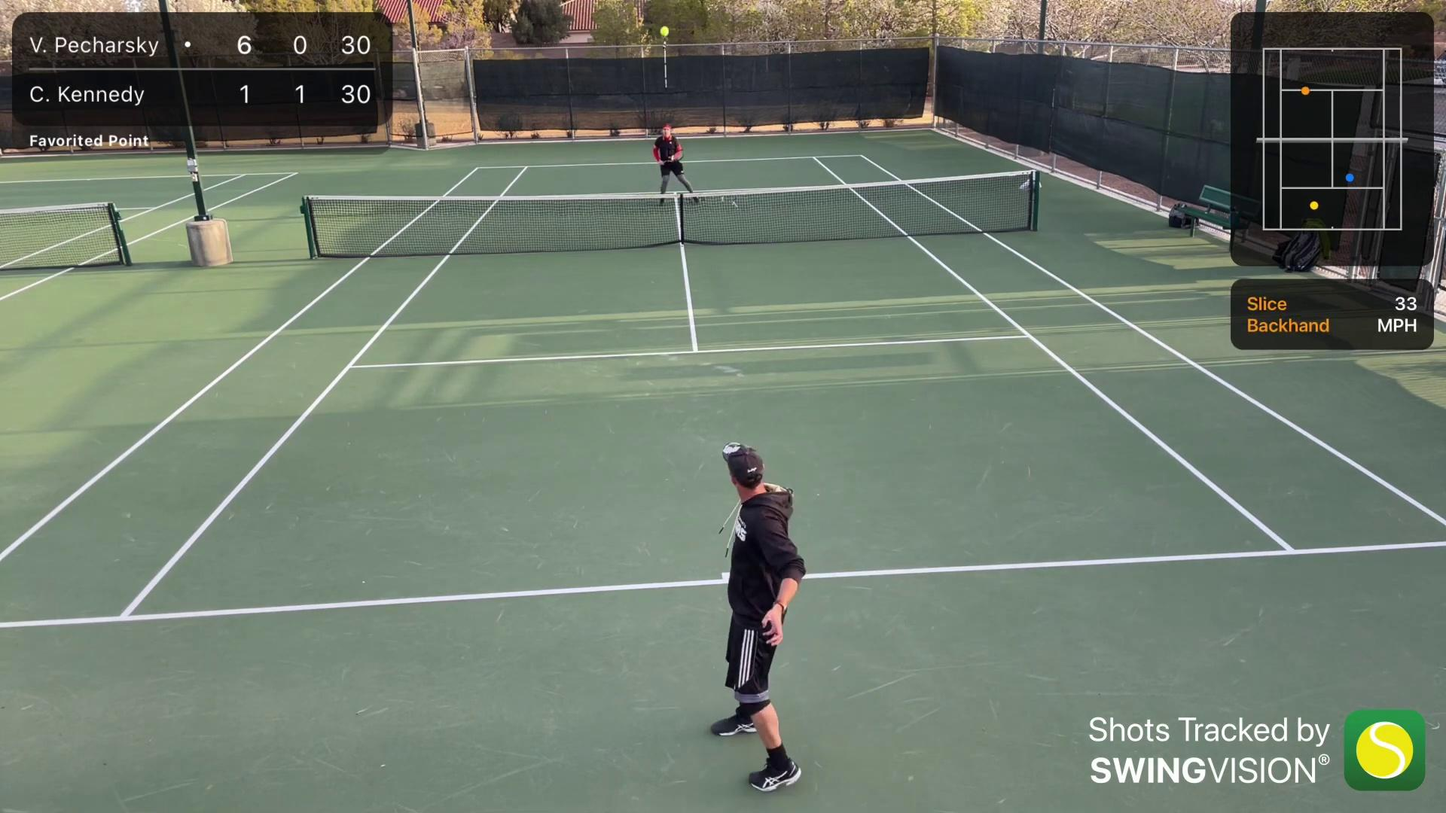ball: (657, 23, 671, 38)
